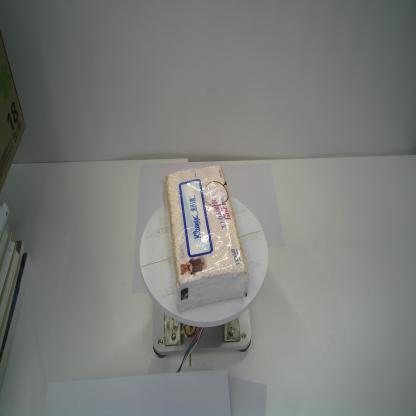Tissue: (162, 163, 250, 313)
